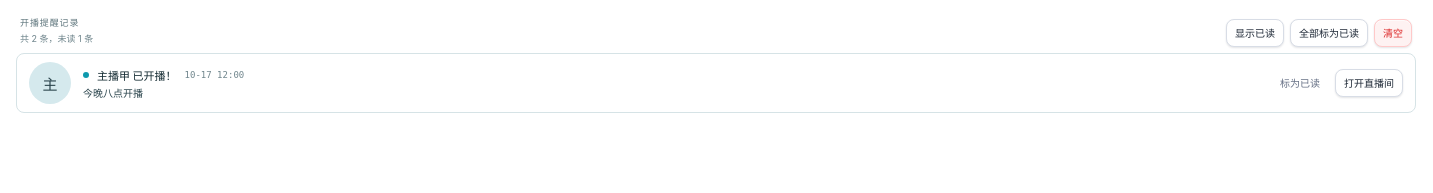
Test: shows the clear confirmation above the list, not after it
Expected: the text "确认清空全部开播提醒记录？" is not shown
Click the button "清空" at (1393, 33), box x1=1374 y1=19 x2=1412 y2=47
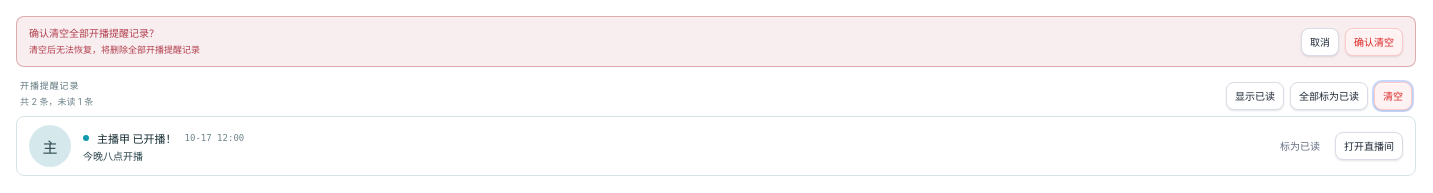
Expected: the message shows "确认清空全部开播提醒记录？", x1=29 y1=27 x2=159 y2=39
Click the button "确认清空" at (1374, 42), box x1=1345 y1=28 x2=1403 y2=56
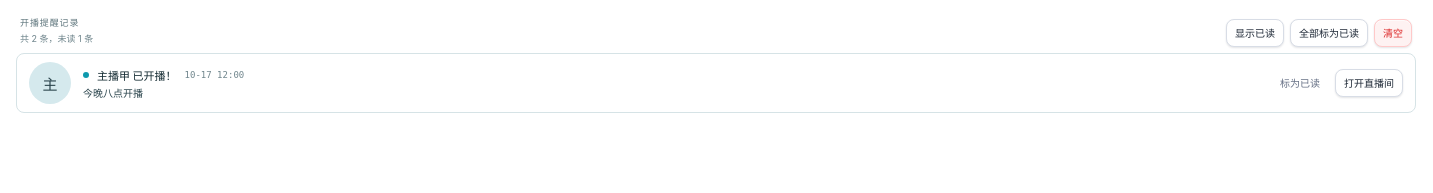
Expected: the text "确认清空全部开播提醒记录？" is gone
